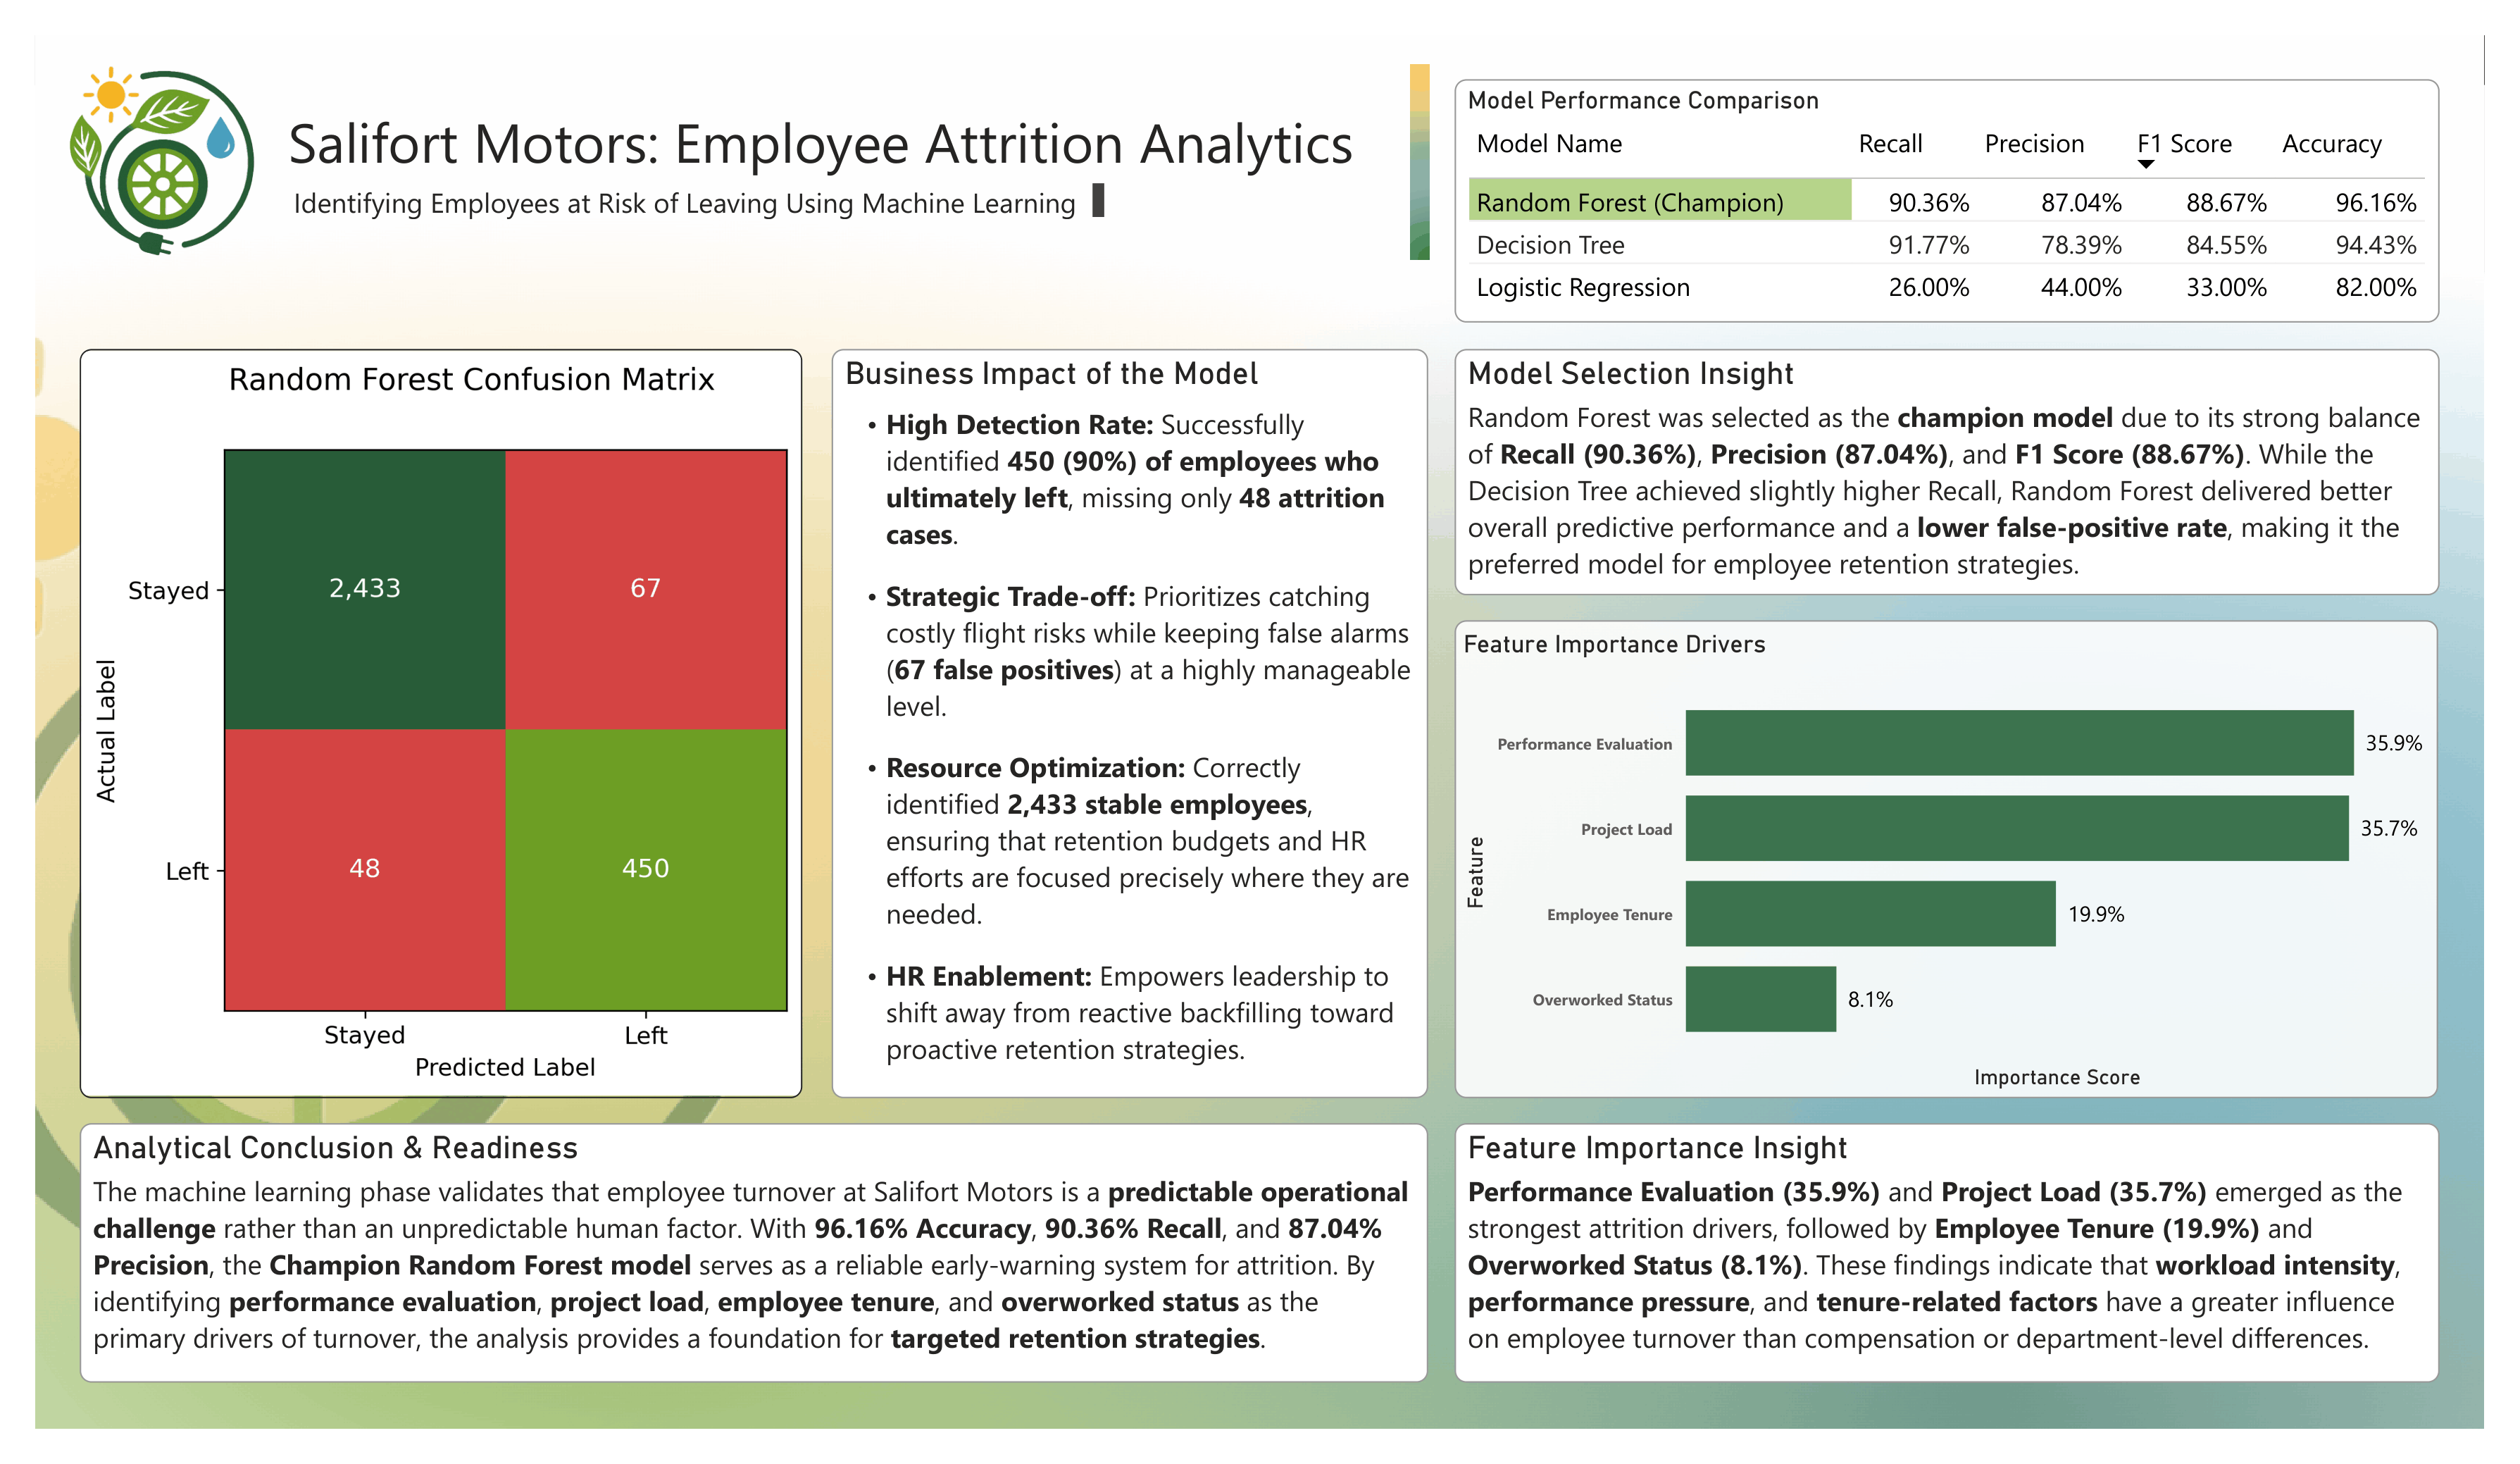

This screenshot's page, from the dashboard's own definition file:
{"tool":"powerbi","page":{"name":"Predictive Attrition Modeling","canvas":[1670,950],"ordinal":2},"visuals":[{"type":"image","box":[0,180.7,545,737.1],"z":0},{"type":"image","box":[937.6,19.7,13.7,133.5],"z":1000},{"type":"textbox","box":[167,42.2,759.8,78.8],"z":2000},{"type":"textbox","box":[171.4,95.6,562.8,34.9],"z":3000},{"type":"image","box":[13.1,17.2,145.3,138.1],"z":4000},{"type":"tableEx","title":"Model Performance Comparison","fields":{"Values":["Predictive ML Model Comparison - Predictive ML Model Comparison.Model Name","Sum(Predictive ML Model Comparison - Predictive ML Model Comparison.Recall)","Sum(Predictive ML Model Comparison - Predictive ML Model Comparison.Precision)","Sum(Predictive ML Model Comparison - Predictive ML Model Comparison.F1 Score)","Sum(Predictive ML Model Comparison - Predictive ML Model Comparison.Accuracy)"]},"box":[967.9,30.3,672.1,165.4],"z":5000},{"type":"image","box":[30.3,213.9,493.1,511.3],"z":6000},{"type":"clusteredBarChart","title":"Feature Importance Drivers","fields":{"Category":["Feature Importance.Feature"],"Y":["Sum(Feature Importance.Importance)"]},"box":[968.2,398.9,671.1,326.1],"z":7000},{"type":"textbox","title":"Model Selection Insight","box":[967.9,213.9,672.1,168.4],"z":8000},{"type":"textbox","title":"Business Impact of the Model","box":[543.1,213.9,406.6,511.3],"z":9000},{"type":"textbox","title":"Analytical Conclusion & Readiness","box":[30.3,741.9,919.4,177.5],"z":10000},{"type":"textbox","title":"Feature Importance Insight","box":[968.2,741.8,671.8,177.5],"z":11000}]}

Visuals, with their boxes on the page's 1670x950 design canvas (x1, y1, x2, y2). These are canvas units, not pixel positions in the 2520x1464 screenshot, which may show the page scaled, cropped or inside an application window:
image: (x1=0, y1=181, x2=545, y2=918)
image: (x1=938, y1=20, x2=951, y2=153)
textbox: (x1=167, y1=42, x2=927, y2=121)
textbox: (x1=171, y1=96, x2=734, y2=130)
image: (x1=13, y1=17, x2=158, y2=155)
"Model Performance Comparison" tableEx: (x1=968, y1=30, x2=1640, y2=196)
image: (x1=30, y1=214, x2=523, y2=725)
"Feature Importance Drivers" clusteredBarChart: (x1=968, y1=399, x2=1639, y2=725)
"Model Selection Insight" textbox: (x1=968, y1=214, x2=1640, y2=382)
"Business Impact of the Model" textbox: (x1=543, y1=214, x2=950, y2=725)
"Analytical Conclusion & Readiness" textbox: (x1=30, y1=742, x2=950, y2=919)
"Feature Importance Insight" textbox: (x1=968, y1=742, x2=1640, y2=919)
